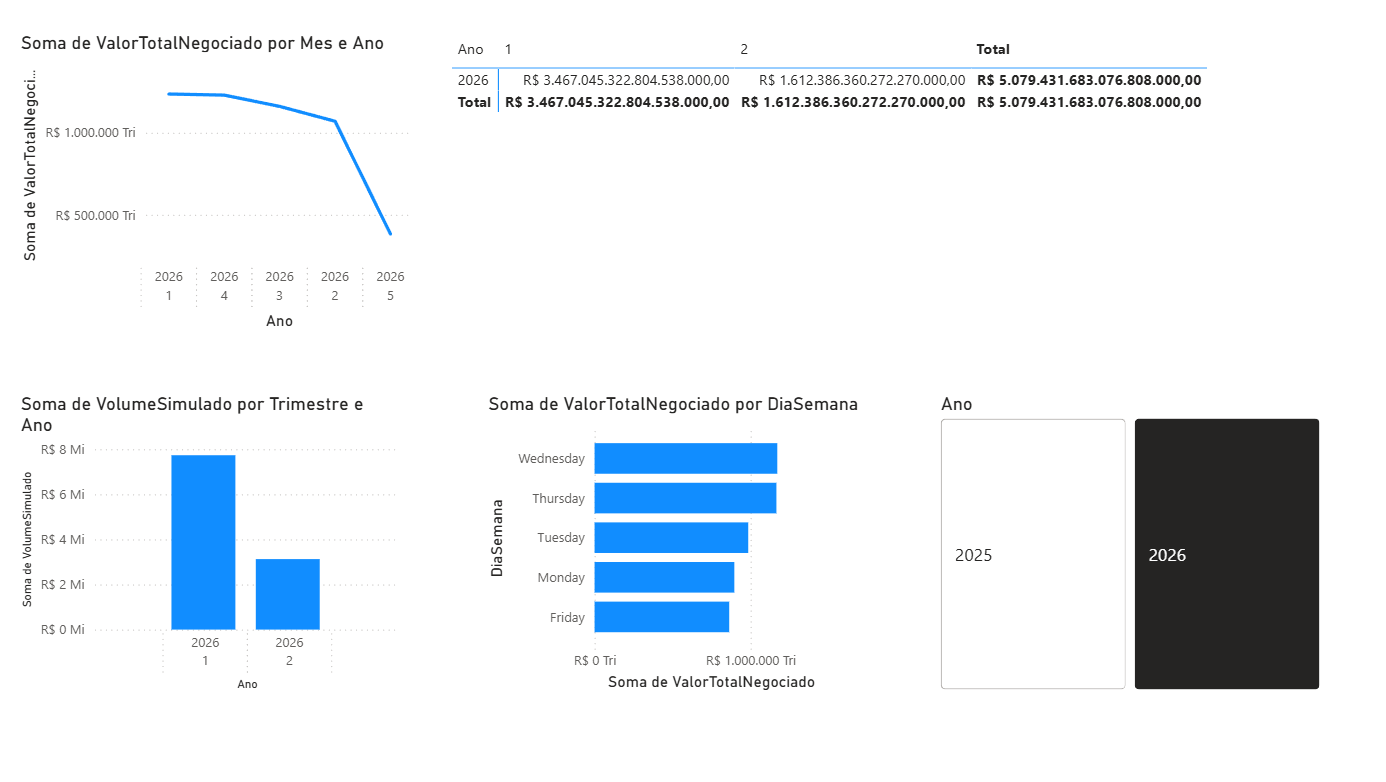

The dashboard page shown, as its layout file describes it:
{"tool":"powerbi","page":{"name":"Página 3","canvas":[1280,720],"ordinal":2},"visuals":[{"type":"lineChart","fields":{"Y":["Sum(fato_vendas_bovespa.ValorTotalNegociado)"],"Category":["dim_tempo.Mes","dim_tempo.Ano"]},"box":[16,28.4,370.4,279],"z":0},{"type":"clusteredColumnChart","fields":{"Y":["Sum(fato_vendas_bovespa.VolumeSimulado)"],"Category":["dim_tempo.Trimestre","dim_tempo.Ano"]},"box":[16,360.5,358,279],"z":1000},{"type":"clusteredBarChart","fields":{"Y":["Sum(fato_vendas_bovespa.ValorTotalNegociado)"],"Category":["dim_tempo.DiaSemana"]},"box":[445.7,360.5,358,279],"z":2000},{"type":"advancedSlicerVisual","fields":{"Values":["dim_tempo.Ano"]},"box":[861.7,360.5,358,279],"z":3000},{"type":"pivotTable","fields":{"Values":["Sum(fato_vendas_bovespa.ValorTotalNegociado)"],"Rows":["dim_tempo.Ano"],"Columns":["dim_tempo.Trimestre"]},"box":[412.3,28.4,719.8,279],"z":4000}]}

Visuals, with their boxes in screenshot pixels (x1, y1, x2, y2), scaled from the page's 1280x720 canvas onto the 1386x782 screenshot:
lineChart - Sum(fato_vendas_bovespa.ValorTotalNegociado) x dim_tempo.Mes: crop(17, 31, 418, 334)
clusteredColumnChart - Sum(fato_vendas_bovespa.VolumeSimulado) x dim_tempo.Trimestre: crop(17, 392, 405, 695)
clusteredBarChart - Sum(fato_vendas_bovespa.ValorTotalNegociado) x dim_tempo.DiaSemana: crop(483, 392, 870, 695)
advancedSlicerVisual - dim_tempo.Ano: crop(933, 392, 1321, 695)
pivotTable - Sum(fato_vendas_bovespa.ValorTotalNegociado) x dim_tempo.Ano: crop(446, 31, 1226, 334)
